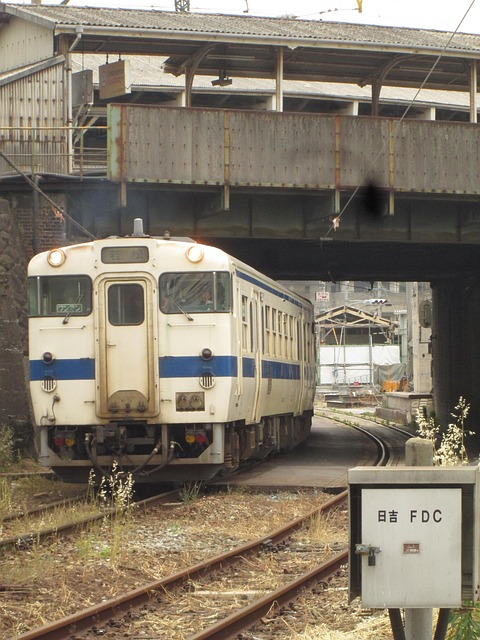train1: (26, 230, 320, 494)
